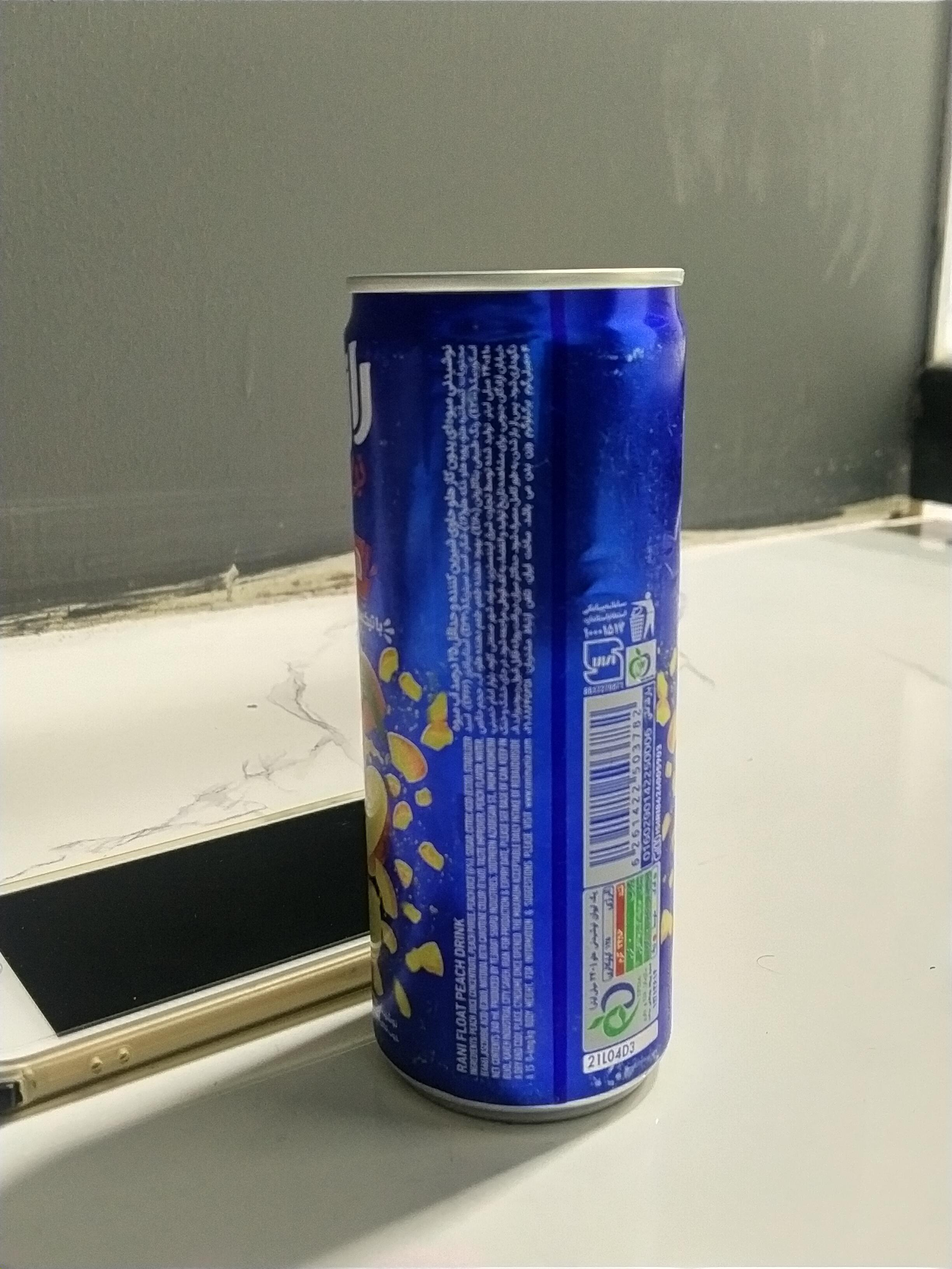tin can: (344, 261, 691, 1125)
